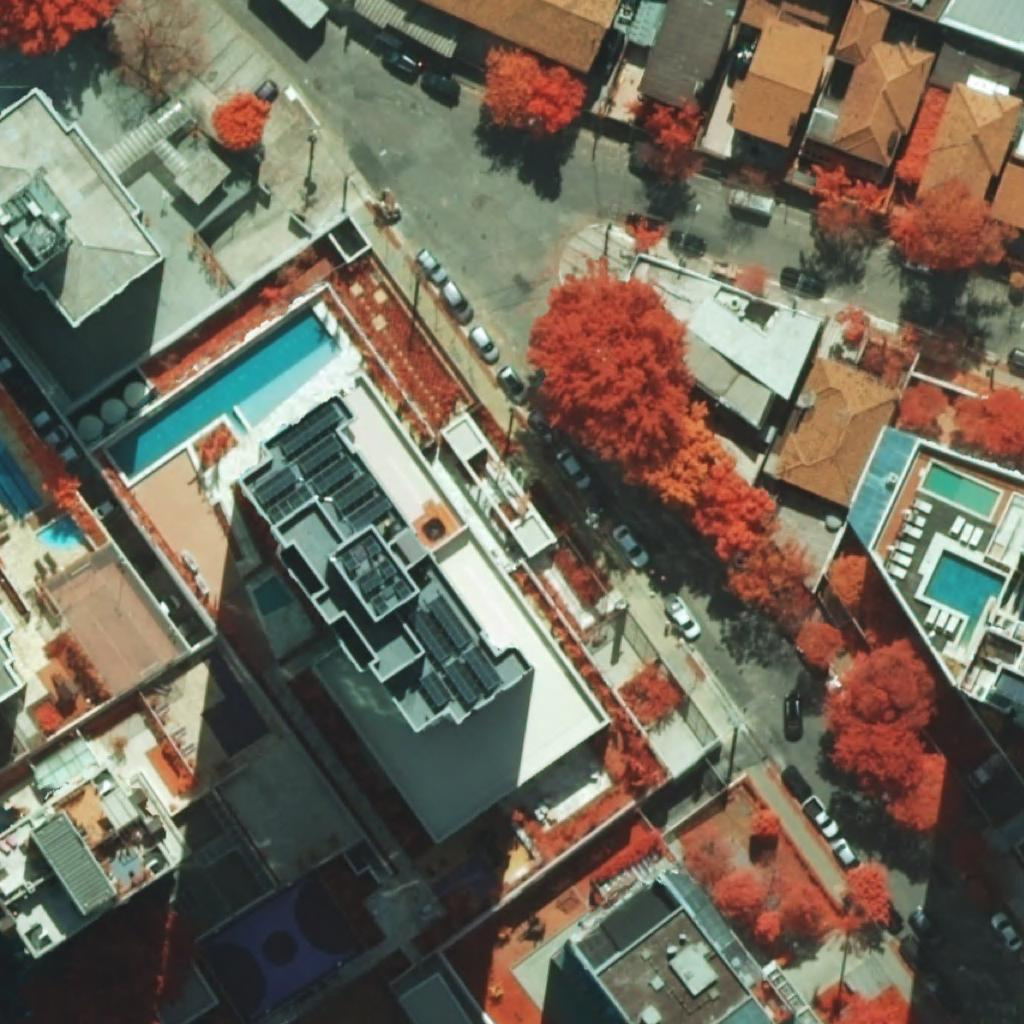pool: (107, 306, 334, 481), (923, 549, 1007, 646), (921, 461, 1000, 518), (0, 437, 43, 521), (35, 514, 85, 548)
